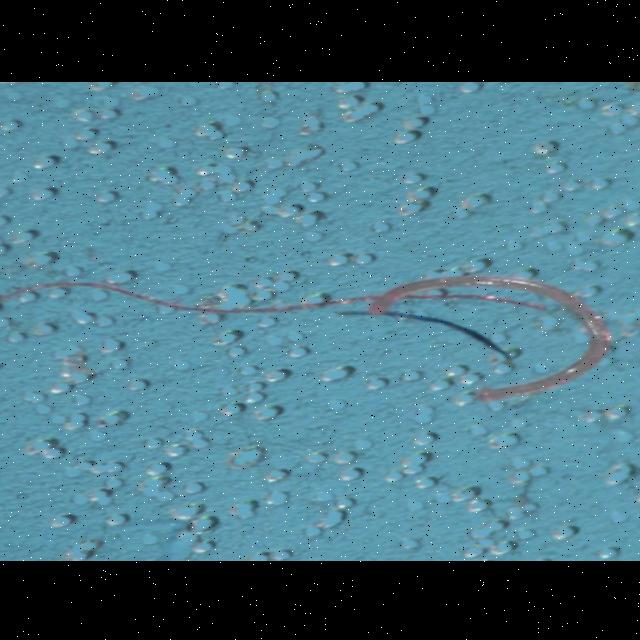Fibre: (0, 268, 615, 401)
